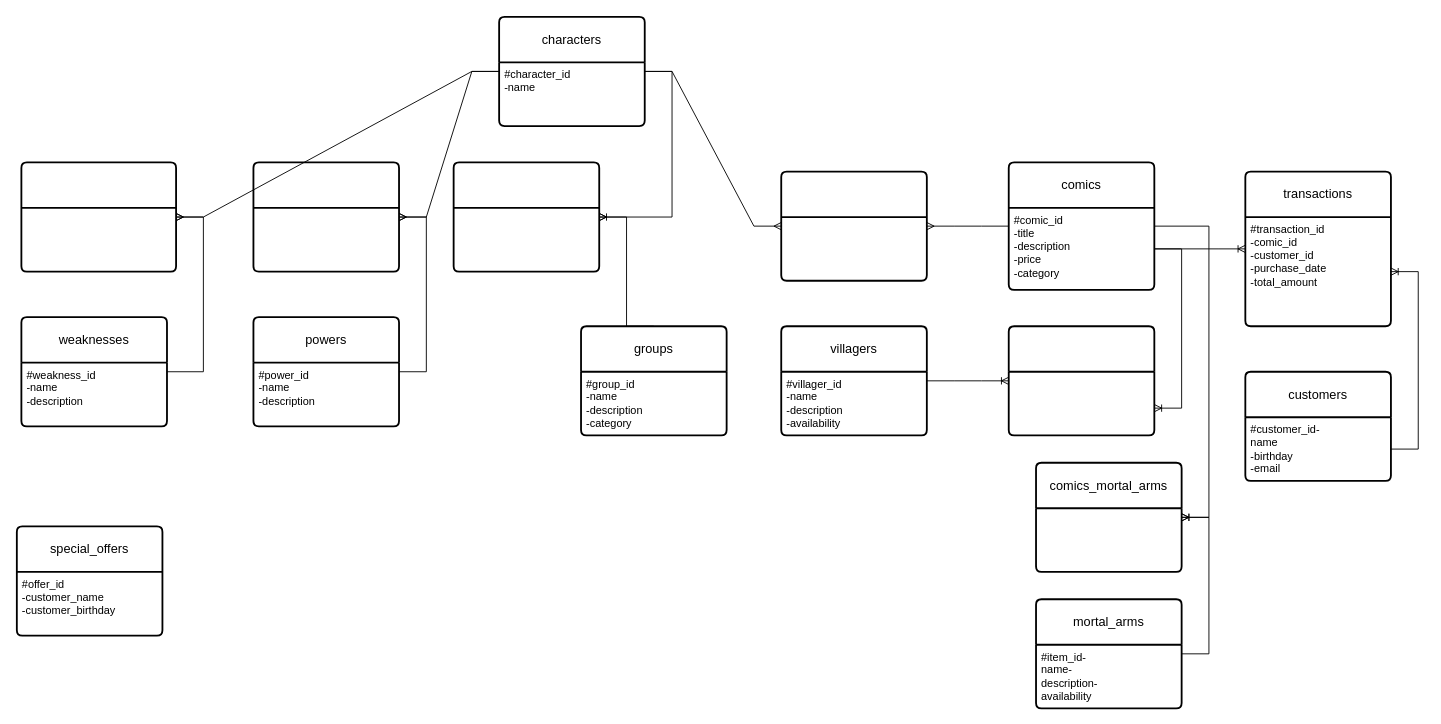
This 1441x724 diagram has some shape labels left out. The centre of each missing label's shape, as x and y in pixels:
"characters_comics" belongs at (853,225).
"characters_groups" belongs at (526,216).
"characters_powers" belongs at (325,216).
"characters_weaknesses" belongs at (98,216).
"villagers_comics" belongs at (1081,380).
